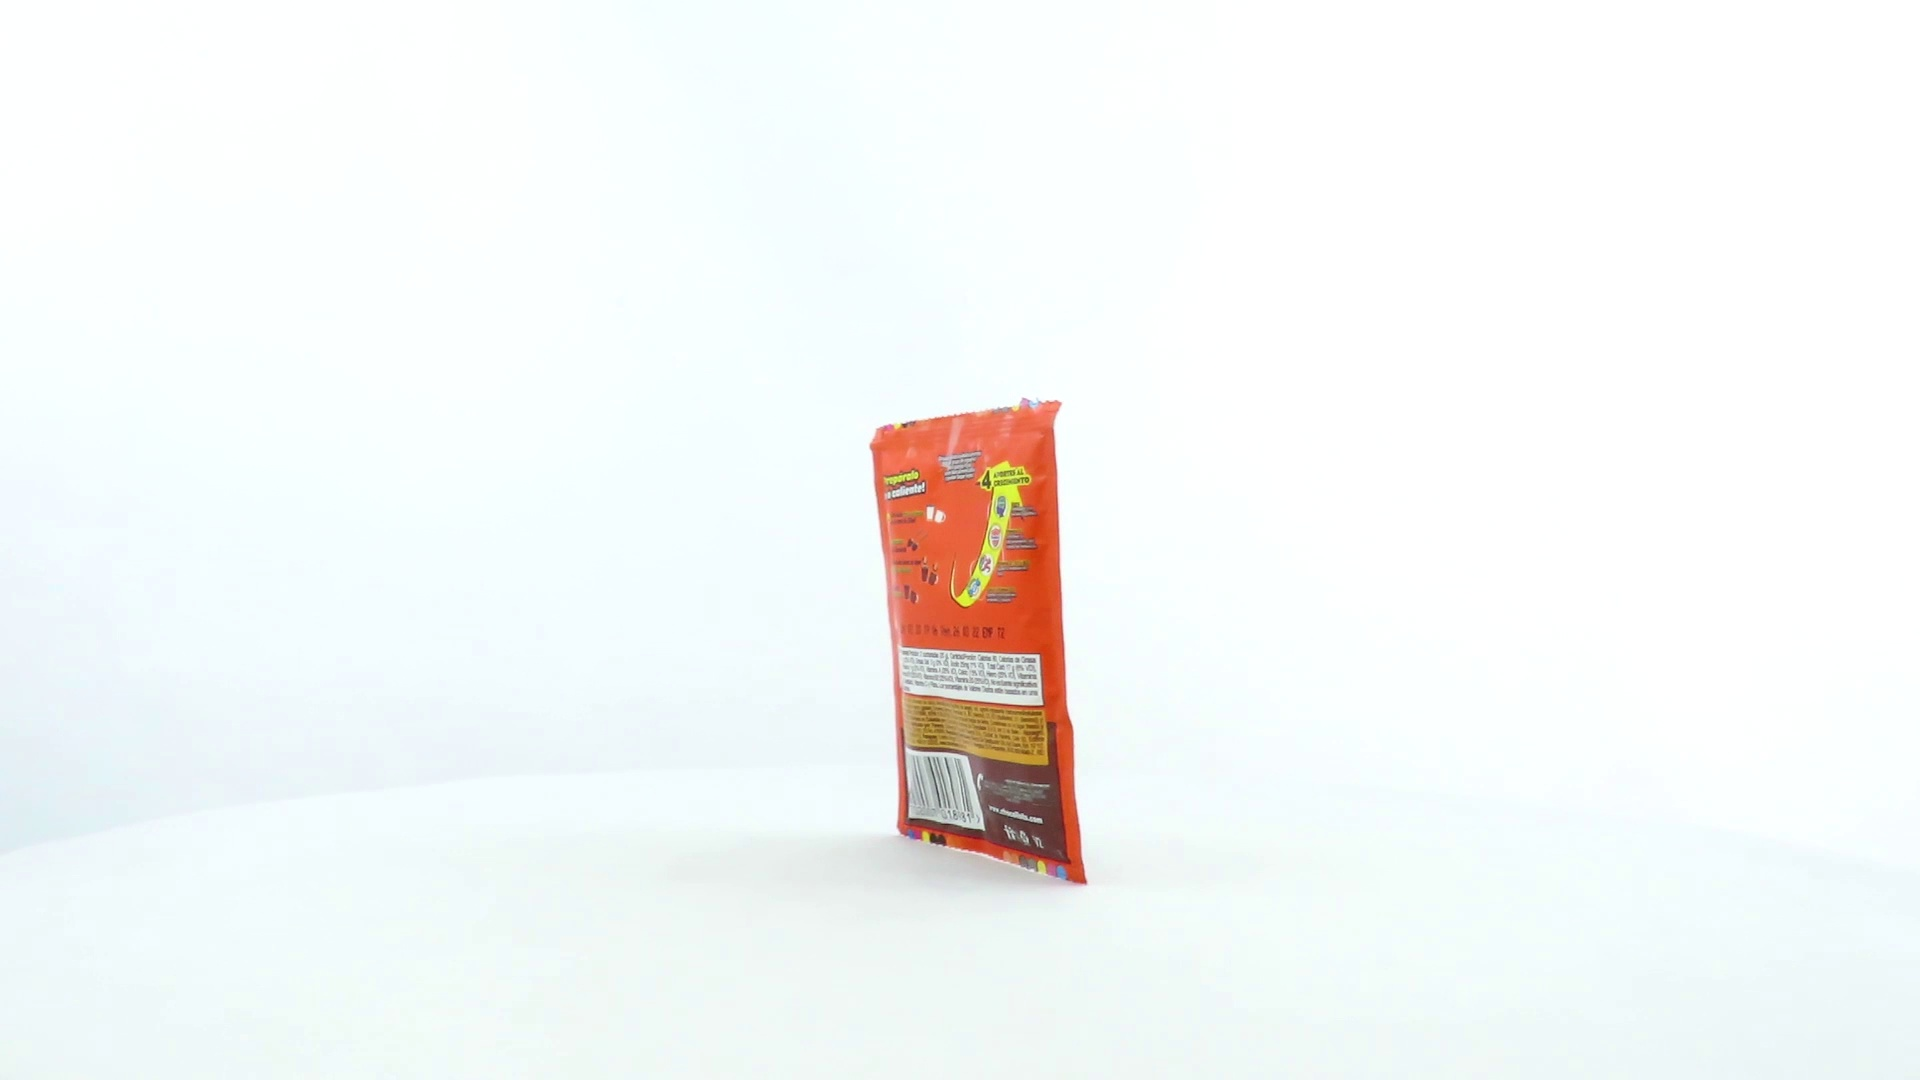COL0170103SOB02000: (864, 392, 1093, 891)
